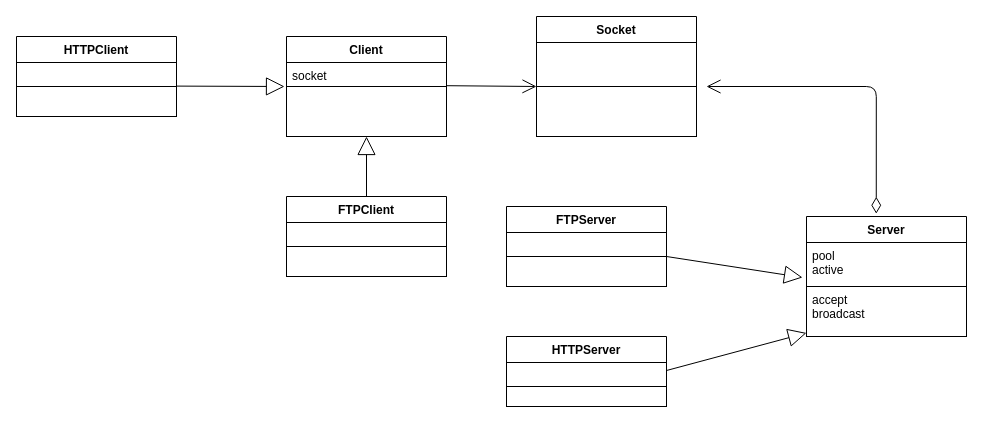
This 983x423 diagram has some shape labels left out. Each missing label, with the centre of its shape:
authenticate: the point at 96,101
connect: the point at 366,111
port: the point at 616,64
send receive: the point at 616,111
transfer: the point at 366,261
